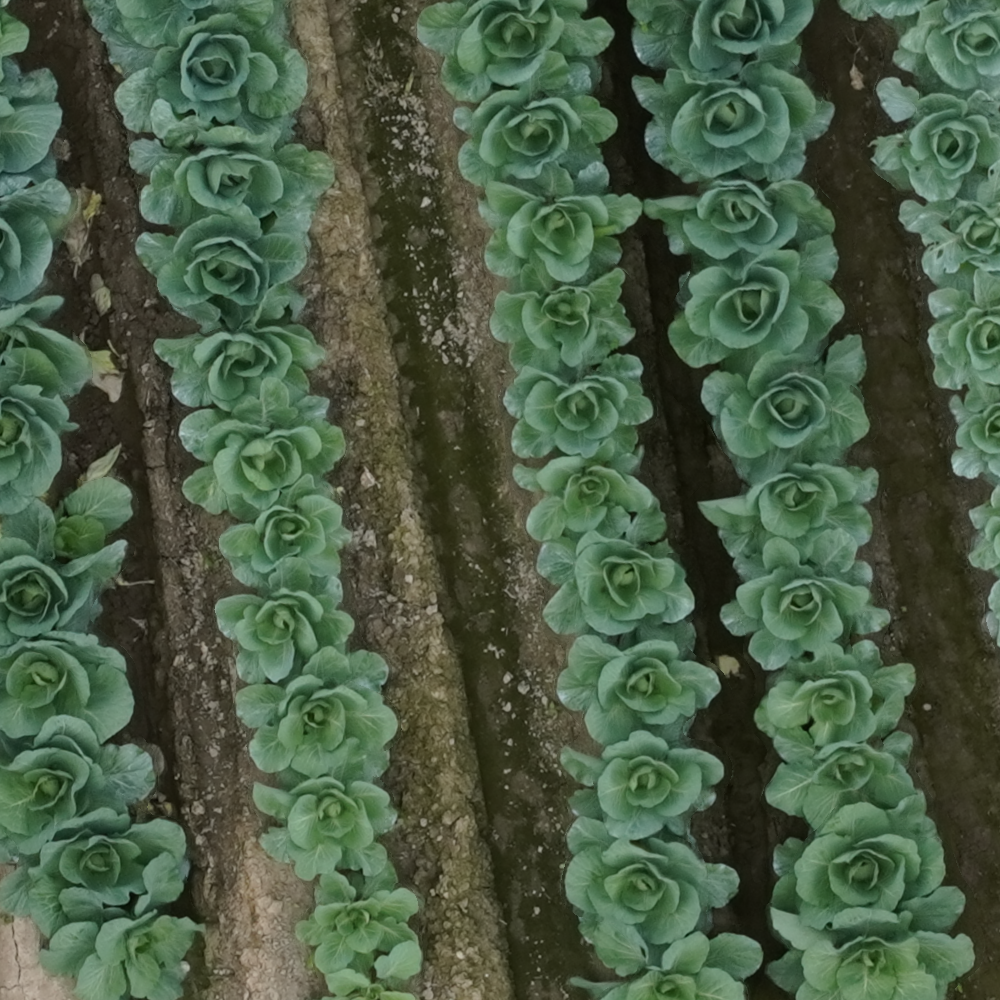Cabbage: (631, 41, 835, 182), (127, 100, 337, 229), (108, 14, 307, 142), (666, 234, 845, 375), (704, 333, 871, 484), (0, 810, 190, 940), (773, 789, 944, 932), (722, 530, 893, 672), (41, 853, 206, 1000), (180, 379, 347, 522), (1, 715, 159, 864), (765, 888, 974, 1000), (136, 204, 310, 335), (564, 820, 740, 949), (0, 477, 132, 647), (452, 54, 619, 187), (538, 499, 695, 640), (234, 647, 398, 779), (477, 162, 639, 291), (766, 691, 916, 828), (557, 623, 721, 745), (644, 176, 836, 280), (415, 0, 614, 100), (556, 734, 727, 846), (213, 555, 356, 686), (695, 463, 879, 562), (0, 317, 91, 517), (754, 641, 917, 749), (252, 762, 397, 880), (502, 353, 656, 463), (0, 632, 134, 753), (871, 79, 1000, 202), (153, 322, 327, 412), (569, 919, 761, 1000), (627, 0, 812, 84), (491, 268, 635, 373), (220, 474, 352, 587), (513, 443, 652, 543), (296, 861, 420, 972), (899, 159, 1000, 290), (887, 0, 1000, 98), (0, 175, 70, 321), (928, 270, 1000, 393), (320, 942, 424, 1000), (951, 376, 1000, 481), (967, 485, 1000, 574), (985, 580, 1000, 646)
